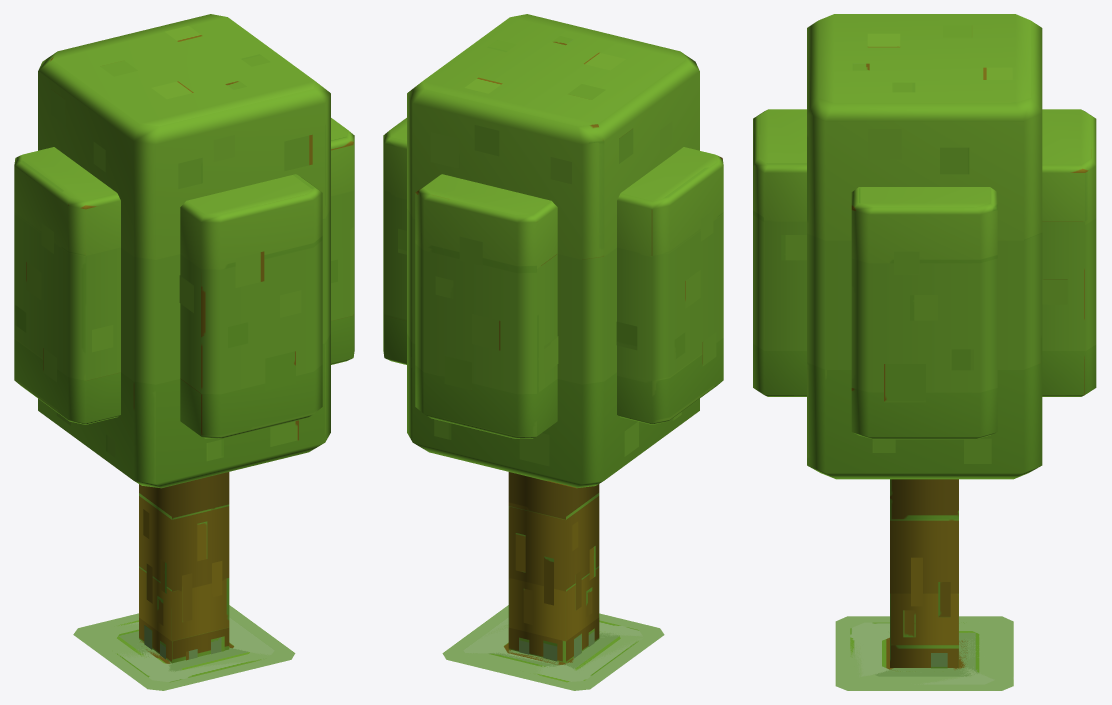
File: B_grass1_tree02.fbx
3 views of the same model, side by side, from view 1: azimuth 30°, elevation 25°; view 2: azimuth 150°, elevation 25°; view 3: azimuth 270°, elevation 25° (orthographic). The views are drawn at different scales.
Parts seen in each view (by area): view 1: model 1, model; view 2: model 1, model; view 3: model 1, model.
Boxes of the visible parts, x1,y1,x2,y2 form: model 1: (14,14,354,690); model: (117,617,274,682); model 1: (383,14,723,690); model: (463,617,642,682); model 1: (753,14,1096,690); model: (850,622,994,684).
Size of the model in its own units: 5.78 by 10.99 by 5.75.
